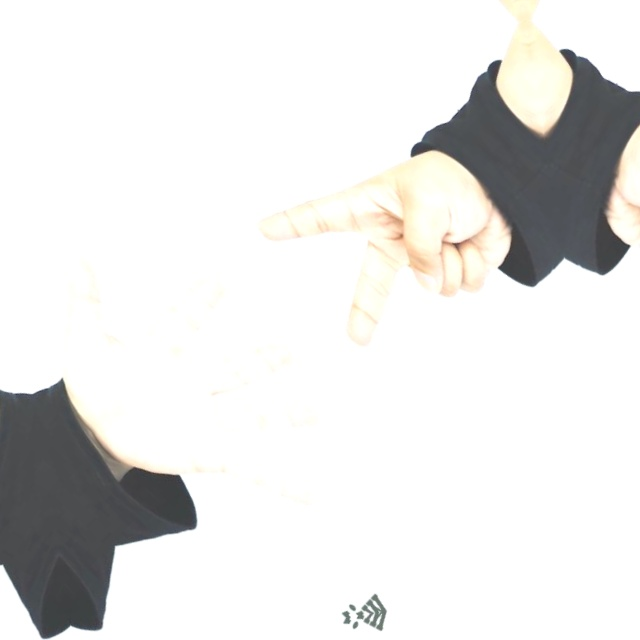Paper: (0, 0, 302, 18)
Scissors: (160, 0, 491, 31)
